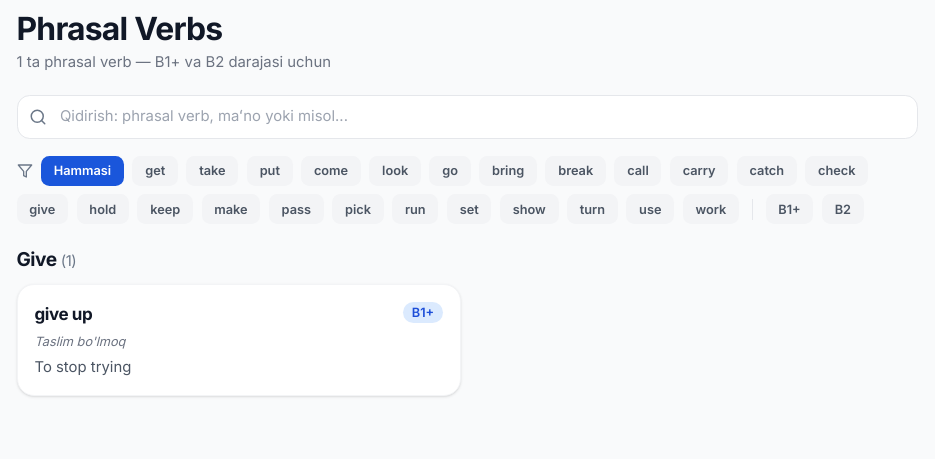
Test: PhrasalVerbs › shows empty state when no matches
Type "zzzznonexistent" into the field with placeholder "Qidirish: phrasal verb, maʻno yoki misol..." at (467, 117), box [16,94,918,139]
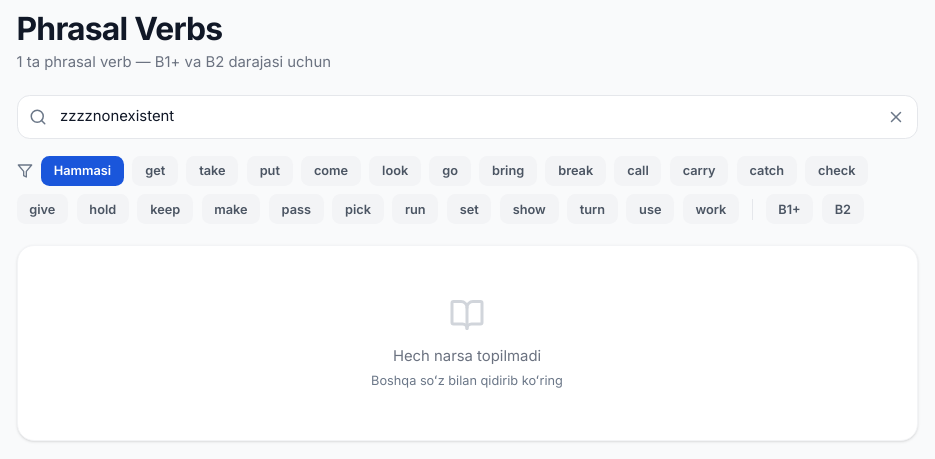
Result: the text "Hech narsa topilmadi" is shown at [393,347,541,365]
